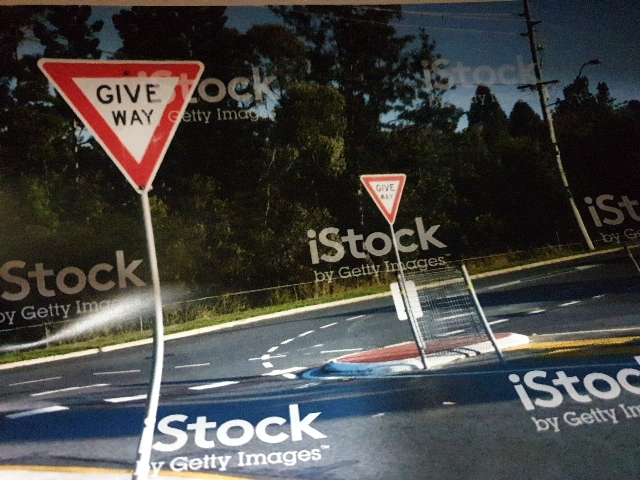giveway: (40, 53, 218, 195), (357, 167, 422, 231)
